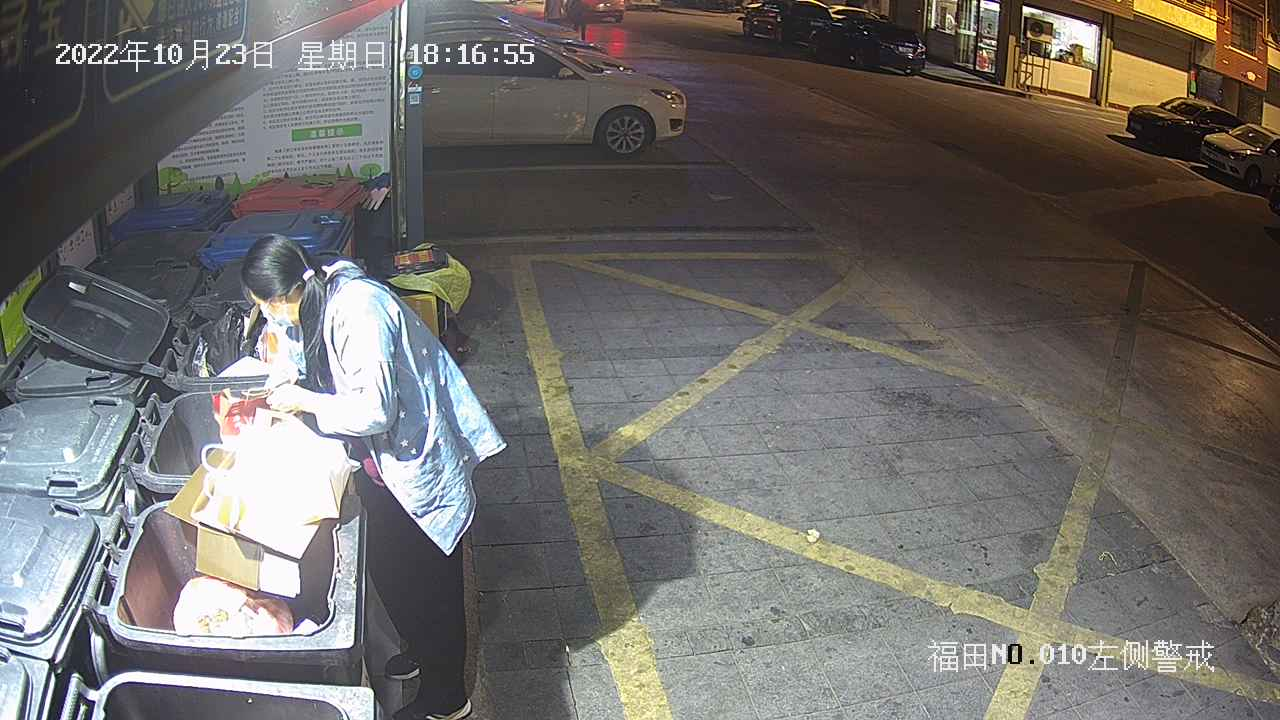worker: (237, 231, 508, 720)
